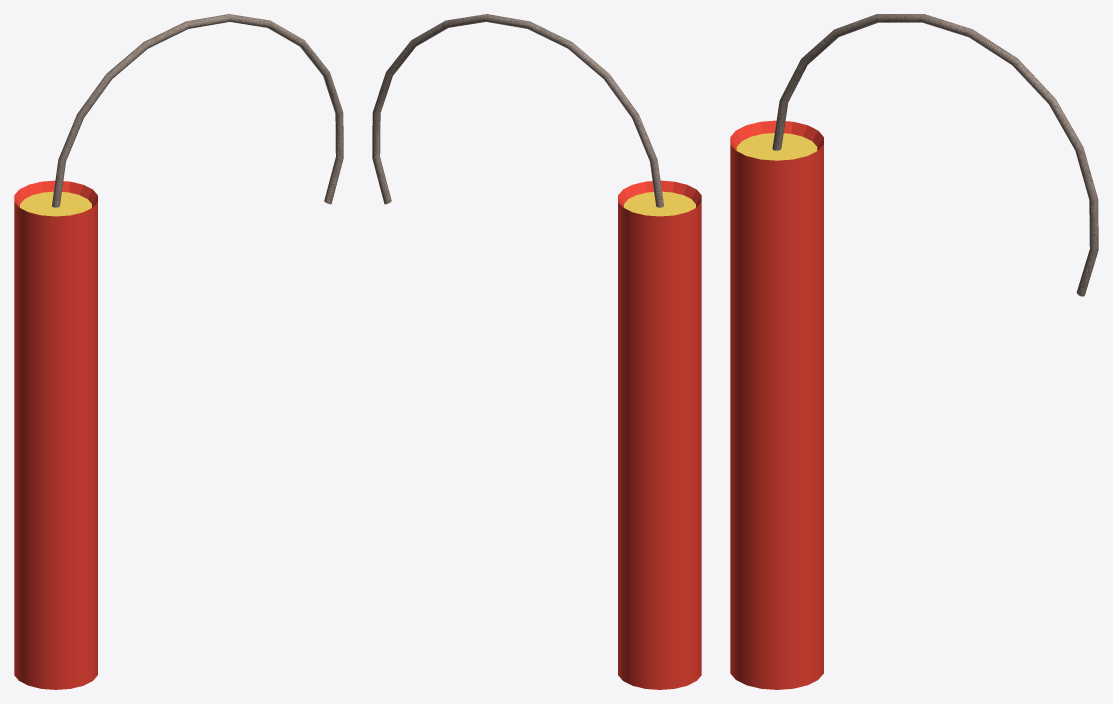
Rendered from Dynamite.fbx.
The picture shows the model from 3 angles, left to right: view 1: azimuth 30°, elevation 25°; view 2: azimuth 150°, elevation 25°; view 3: azimuth 330°, elevation 25°; orthographic projection. The views are drawn at different scales.
Visible parts, largest first — view 1: dynamiteBase, dynamiteFuse, Dynamite; view 2: dynamiteBase, dynamiteFuse, Dynamite; view 3: dynamiteBase, dynamiteFuse, Dynamite.
Boxes of the visible parts, x1,y1,x2,y2 form: dynamiteBase: [14, 180, 97, 689]; dynamiteFuse: [52, 14, 343, 207]; Dynamite: [20, 191, 91, 216]; dynamiteBase: [618, 180, 701, 689]; dynamiteFuse: [372, 14, 663, 207]; Dynamite: [624, 191, 695, 216]; dynamiteBase: [730, 120, 823, 689]; dynamiteFuse: [772, 14, 1098, 296]; Dynamite: [736, 133, 817, 160].
Size of the model in its own units: 79.52 by 145 by 17.81.
3 materials, 3 textured.
